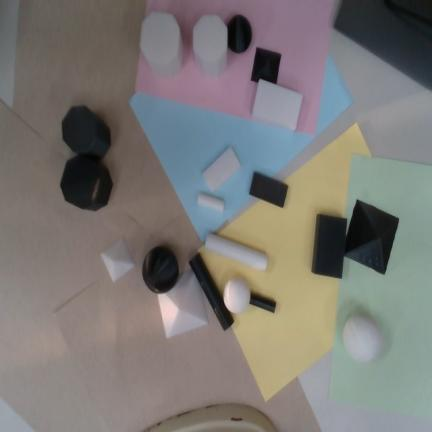Cilindro: (188, 252, 234, 332), (205, 234, 268, 271), (197, 193, 225, 212), (249, 294, 276, 313)
Esfera: (343, 313, 383, 363), (142, 246, 179, 293), (223, 276, 250, 314), (227, 14, 252, 53)
Paralelepipedo: (252, 78, 303, 131), (311, 214, 347, 279), (202, 147, 241, 192), (249, 172, 288, 208)
Piramide: (344, 199, 400, 275), (157, 269, 209, 340), (101, 237, 135, 283), (251, 48, 281, 85)
Prisma_hexagonal: (60, 155, 113, 211), (140, 11, 184, 78), (61, 105, 111, 158), (192, 14, 227, 77)
